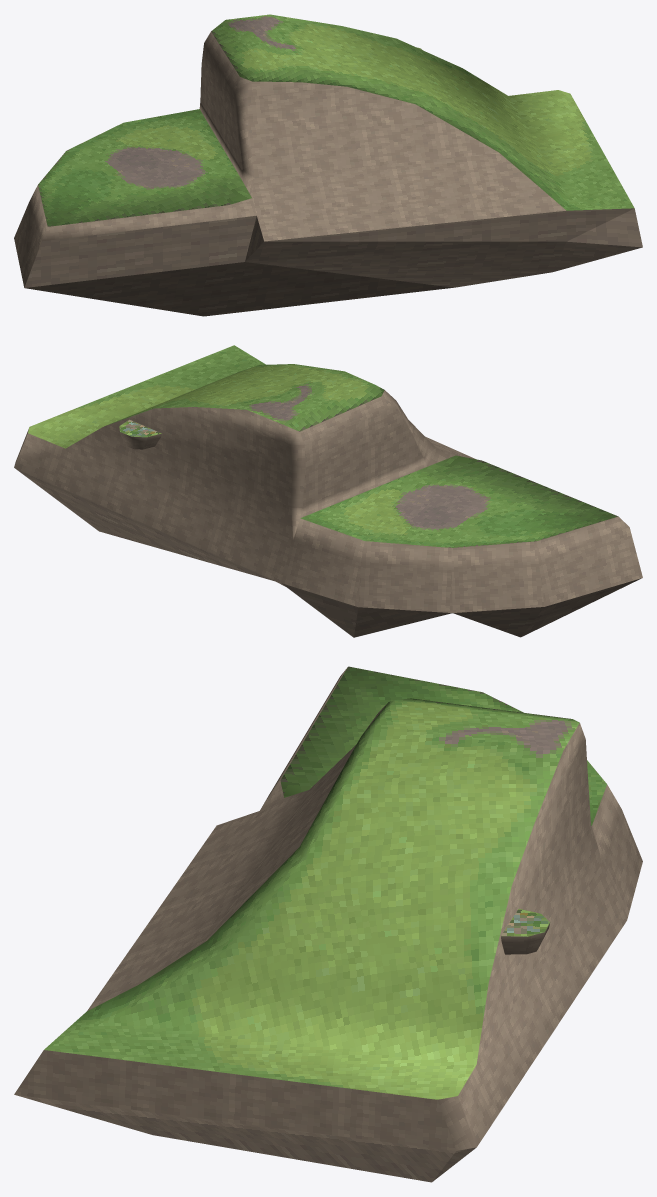
The model's file is 05a4_Kuroshio_Hills.glb.
The picture shows the model from 3 angles, top to bottom: view 1: azimuth 30°, elevation 25°; view 2: azimuth 150°, elevation 25°; view 3: azimuth 270°, elevation 25°; orthographic projection. The views are drawn at different scales.
Visible parts, largest first — view 1: part_0; view 2: part_0; view 3: part_0.
Part boxes in pixels (box(x1,y1,x2,y2)): part_0: box(14, 14, 642, 316); part_0: box(14, 345, 642, 637); part_0: box(14, 666, 642, 1182).
Size of the model in its own units: 298 by 114 by 188.
Materials: 1 (1 with a texture image).
